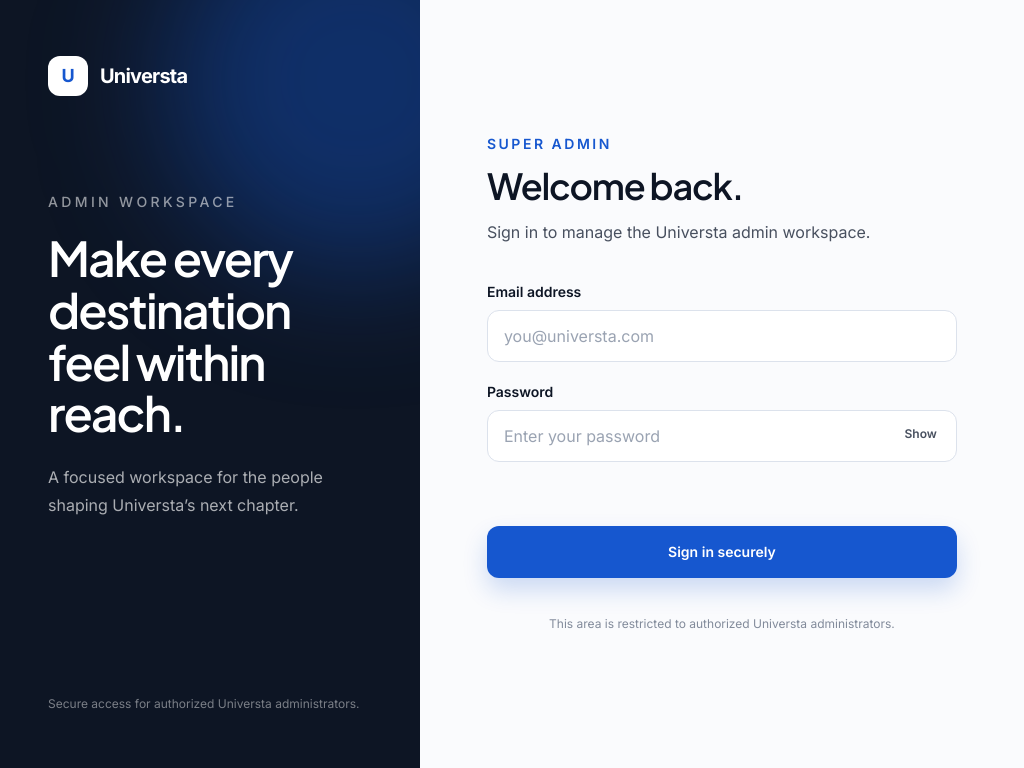
it: LoginScreen › validates required and invalid email fields
The width and height of the screenshot is (1024, 768).
Click the button "Sign in securely".
click(722, 552)  # box [487,526,957,578]
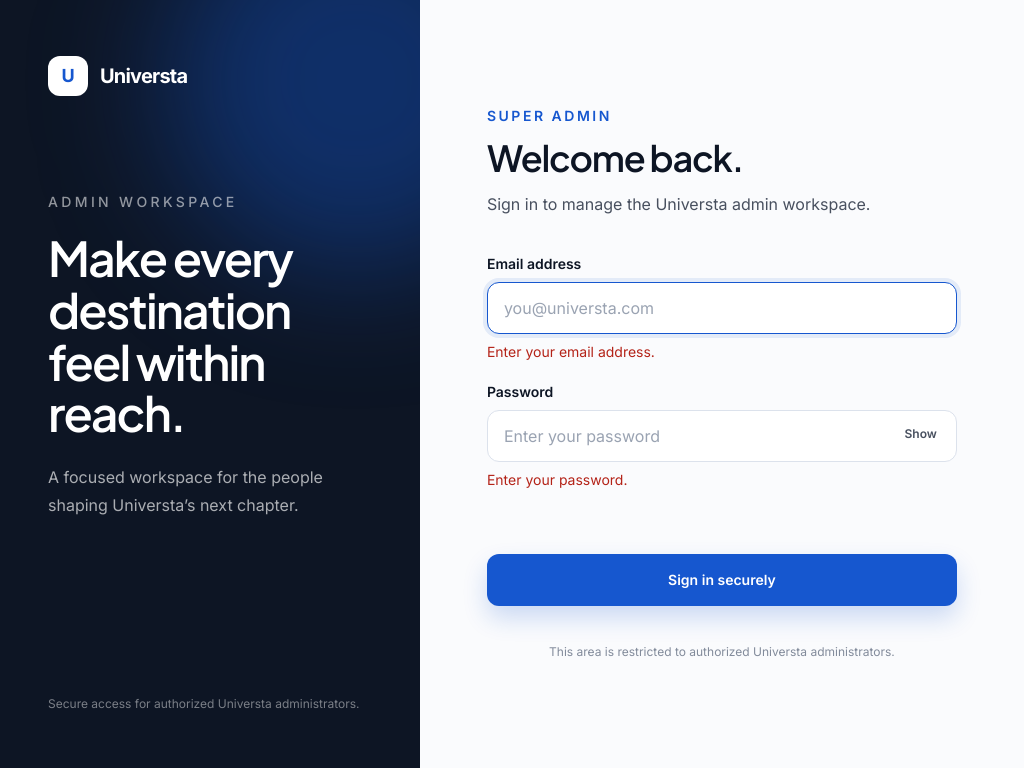
Expected: the text "Enter your email address." is shown, [487,343,655,360]
Type "not-an-email" into the field labelled "Email address".
click(722, 308); type("not-an-email")  # box [487,282,957,334]
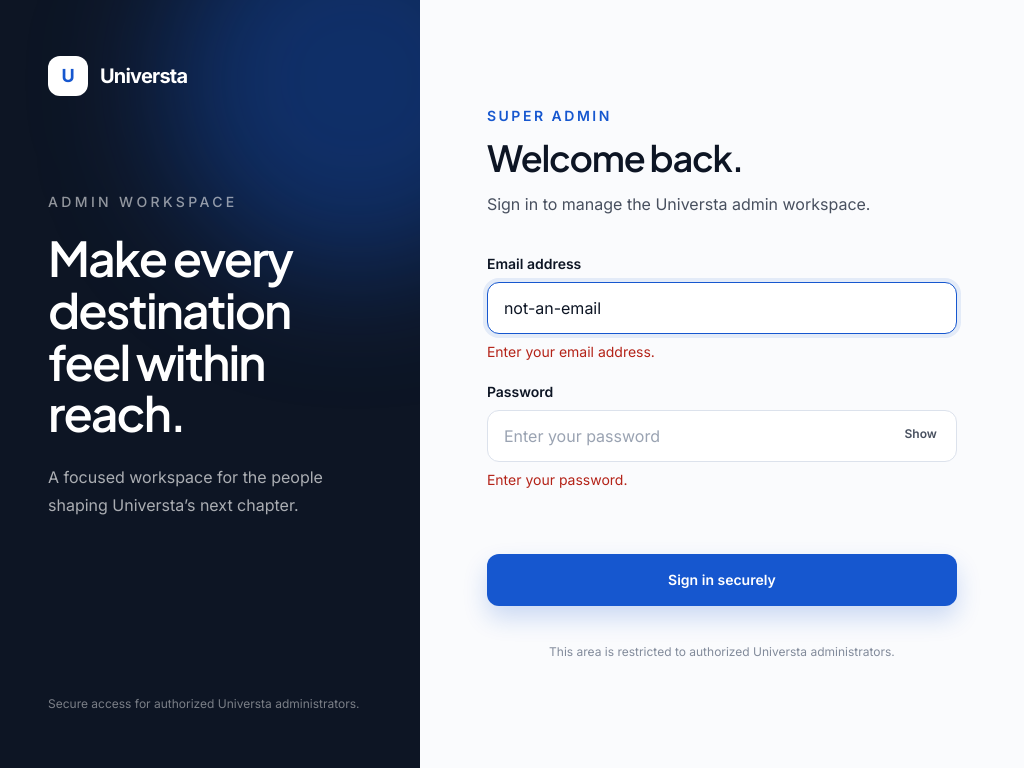
Click the button "Sign in securely".
click(722, 580)  # box [487,554,957,606]
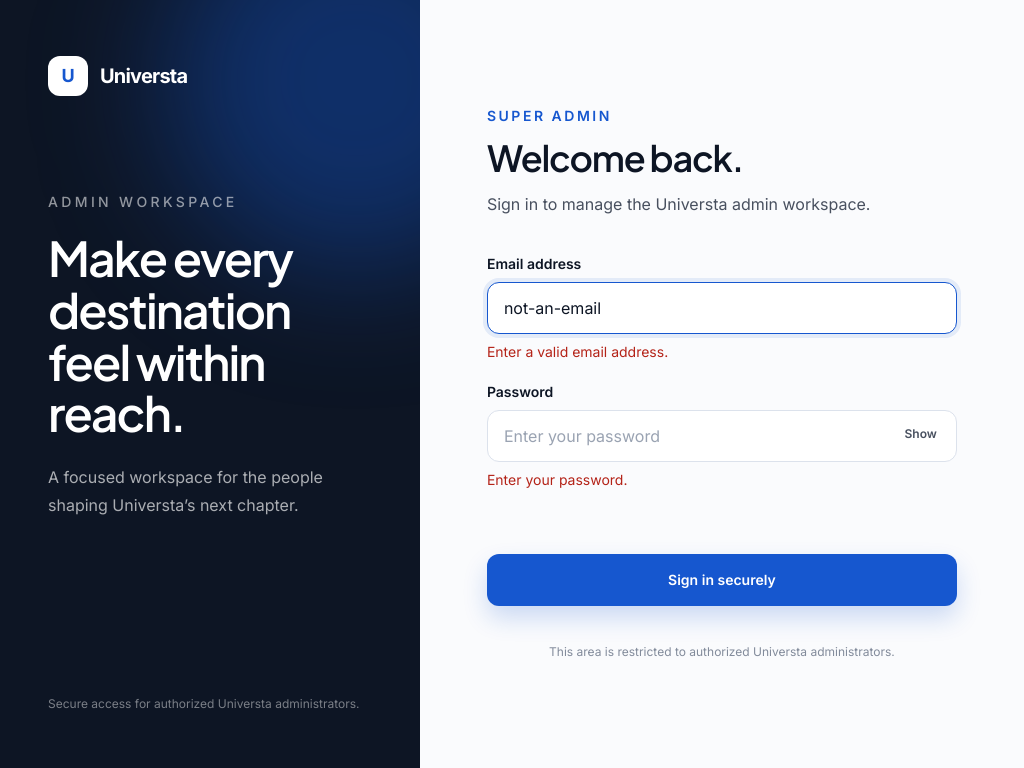
Expected: the text "Enter a valid email address." is shown, [487,343,668,360]
